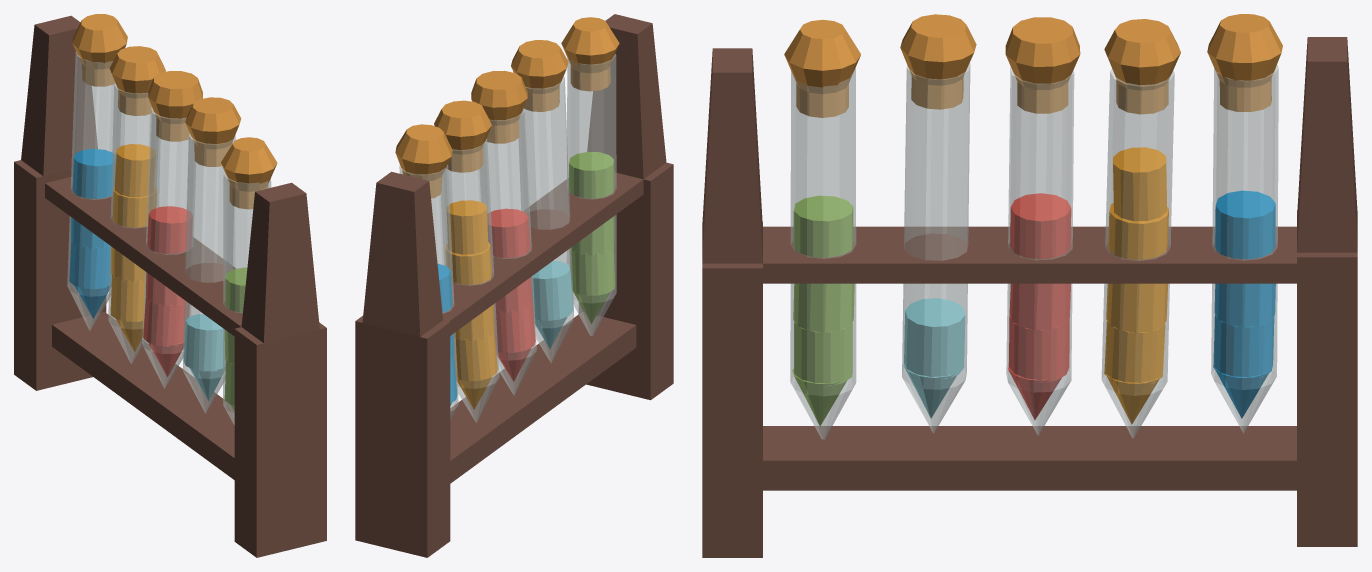
The model's file is chemistry.dae.
3 views of the same model, side by side, from view 1: azimuth 30°, elevation 25°; view 2: azimuth 150°, elevation 25°; view 3: azimuth 270°, elevation 25° (orthographic). The views are drawn at different scales.
Parts seen in each view (by area): view 1: model; view 2: model; view 3: model.
Boxes of the visible parts, <box> form: model: <box>14,14,326,557</box>; model: <box>355,14,673,557</box>; model: <box>702,14,1357,557</box>.
Bounding box in the file's own units: 0.4065 × 2.05 × 2.36.
